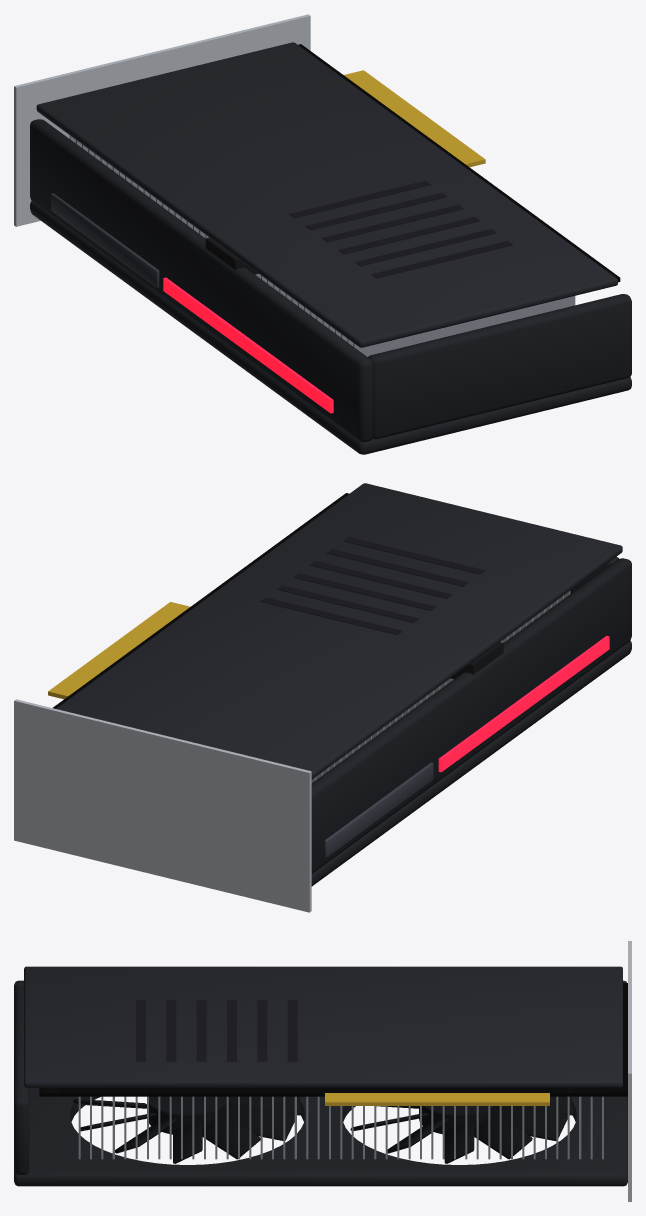
Rendered from gpu-2fan.glb.
The picture shows the model from 3 angles, top to bottom: view 1: azimuth 30°, elevation 25°; view 2: azimuth 150°, elevation 25°; view 3: azimuth 270°, elevation 25°; orthographic projection. The views are drawn at different scales.
Parts seen in each view (by area): view 1: gpu_2fan_core, gpu_2fan_shroud_sides, gpu_2fan_shroud, gpu_2fan_trim; view 2: gpu_2fan_core, gpu_2fan_shroud_sides, gpu_2fan_trim, gpu_2fan_shroud; view 3: gpu_2fan_core, gpu_2fan_shroud, gpu_fan_2, gpu_fan_1, gpu_2fan_shroud_sides.
Part boxes in pixels (x1=…): gpu_2fan_core: x1=14, y1=14, x2=620, y2=356; gpu_2fan_shroud_sides: x1=30, y1=119, x2=631, y2=442; gpu_2fan_shroud: x1=30, y1=201, x2=631, y2=454; gpu_2fan_trim: x1=51, y1=193, x2=333, y2=413; gpu_2fan_core: x1=14, y1=483, x2=622, y2=912; gpu_2fan_shroud_sides: x1=311, y1=556, x2=631, y2=873; gpu_2fan_trim: x1=324, y1=635, x2=609, y2=857; gpu_2fan_shroud: x1=311, y1=641, x2=631, y2=886; gpu_2fan_core: x1=24, y1=941, x2=631, y2=1201; gpu_2fan_shroud: x1=14, y1=1088, x2=627, y2=1186; gpu_fan_2: x1=73, y1=1096, x2=302, y2=1163; gpu_fan_1: x1=350, y1=1096, x2=573, y2=1163; gpu_2fan_shroud_sides: x1=14, y1=980, x2=626, y2=1174.
Size of the model in its own units: 0.1285 by 0.056 by 0.2445.
Materials: 13 (1 with a texture image).
